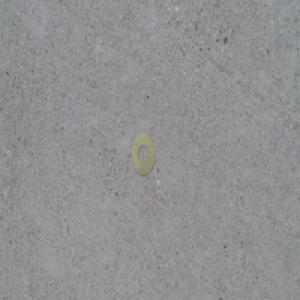Washer: (131, 132, 156, 179)
